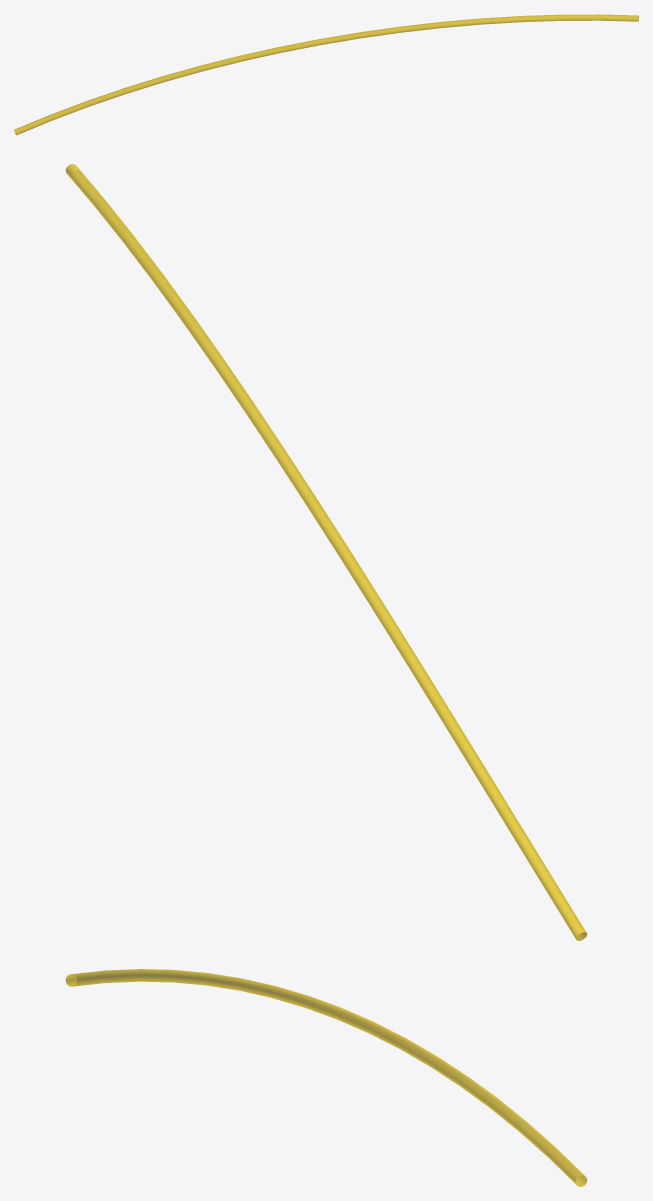
Rendered from Event_15818458_track_19.fbx.
3 renders of one model, top to bottom at view 1: azimuth 30°, elevation 25°; view 2: azimuth 150°, elevation 25°; view 3: azimuth 330°, elevation 25°, orthographic. The views are drawn at different scales.
Parts seen in each view (by area): view 1: Model; view 2: Model; view 3: Model.
Boxes of the visible parts, x1,y1,x2,y2 form: Model: (14,14,638,135); Model: (65,164,587,940); Model: (65,969,587,1186).
Size of the model in its own units: 3.24 by 1.03 by 2.37.
